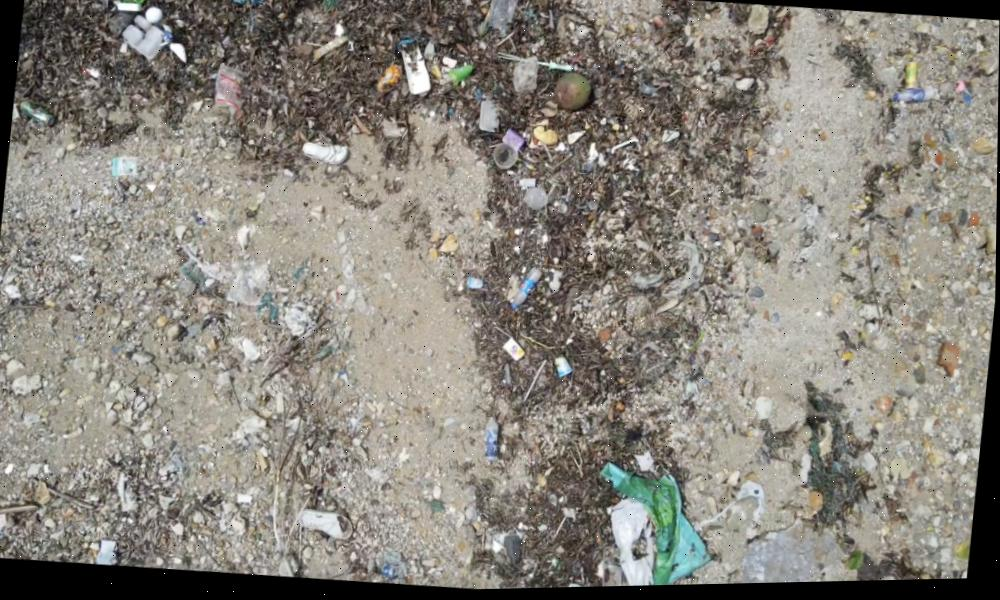carton: (505, 337, 527, 365)
plastic bag: (601, 464, 717, 589)
plastic bottle: (513, 269, 542, 316), (481, 419, 506, 469)
